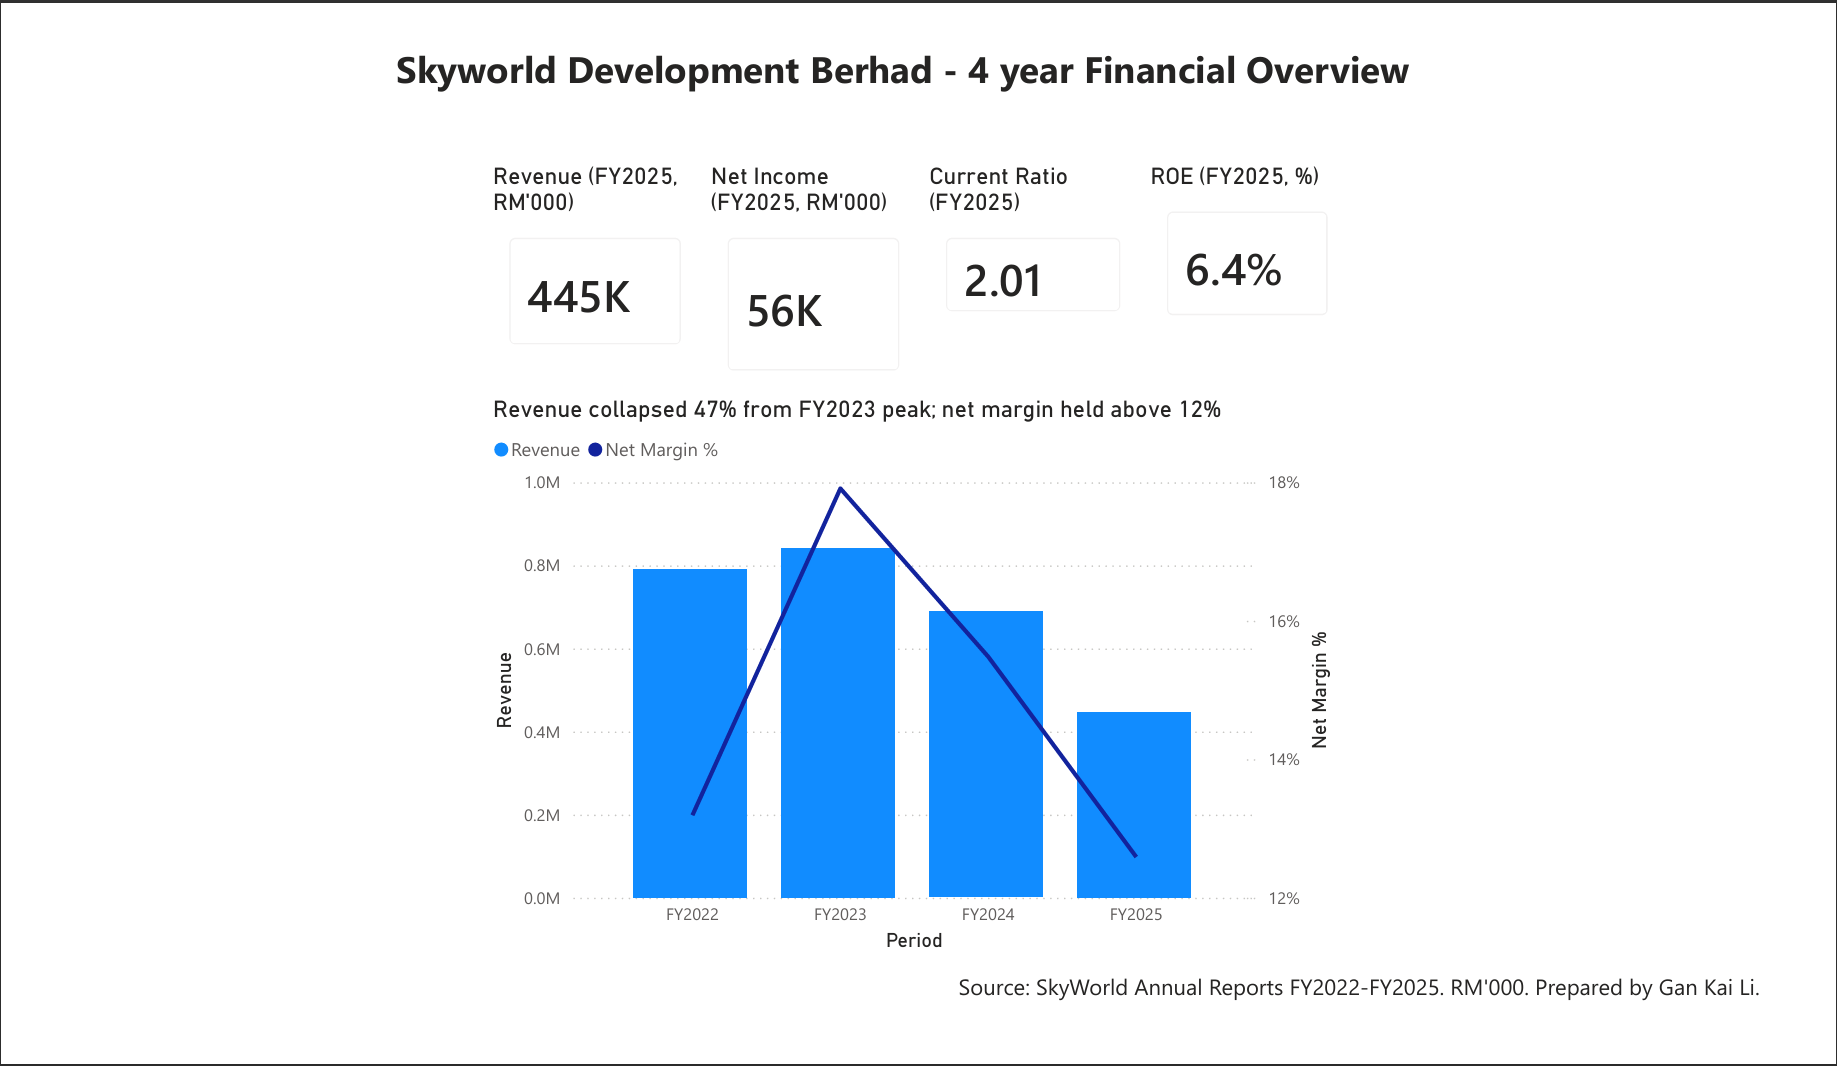

What the dashboard file says about the page in this screenshot:
{"tool":"powerbi","page":{"name":"Overview","canvas":[1280,720],"ordinal":0},"visuals":[{"type":"cardVisual","title":"Revenue (FY2025, RM''000)","fields":{"Data":["Raw Data.Revenue"]},"box":[326.7,91,158,150],"z":0},{"type":"lineStackedColumnComboChart","title":"Revenue collapsed 47% from FY2023 peak; net margin held above 12%","fields":{"Y":["Raw Data.Revenue"],"Y2":["Raw Data.Net Margin %"],"Category":["Period.Period"]},"box":[326.7,259.7,615.9,407],"z":1000},{"type":"cardVisual","title":"Net Income (FY2025, RM''000)","fields":{"Data":["Raw Data.Net Income"]},"box":[484.7,91,158,168.7],"z":2000},{"type":"textbox","box":[664.1,671.8,615.9,48.2],"z":3000},{"type":"cardVisual","title":"ROE (FY2025, %)","fields":{"Data":["Raw Data.ROE"]},"box":[803.3,91,150,128.5],"z":4000},{"type":"textbox","box":[1024,25,150,150],"z":5000},{"type":"cardVisual","title":"Current Ratio (FY2025) ","fields":{"Data":["Raw Data.Current Ratio"]},"box":[642.7,91,160.7,125.9],"z":6000},{"type":"textbox","box":[257.1,0,765.9,58.9],"z":7000}]}

Visuals, with their boxes on the page's 1280x720 design canvas (x1, y1, x2, y2). These are canvas units, not pixel positions in the 1837x1066 screenshot, which may show the page scaled, cropped or inside an application window:
"Revenue (FY2025, RM''000)" cardVisual: Rect(327, 91, 485, 241)
"Revenue collapsed 47% from FY2023 peak; net margin held above 12%" lineStackedColumnComboChart: Rect(327, 260, 943, 667)
"Net Income (FY2025, RM''000)" cardVisual: Rect(485, 91, 643, 260)
textbox: Rect(664, 672, 1280, 720)
"ROE (FY2025, %)" cardVisual: Rect(803, 91, 953, 220)
textbox: Rect(1024, 25, 1174, 175)
"Current Ratio (FY2025) " cardVisual: Rect(643, 91, 803, 217)
textbox: Rect(257, 0, 1023, 59)
